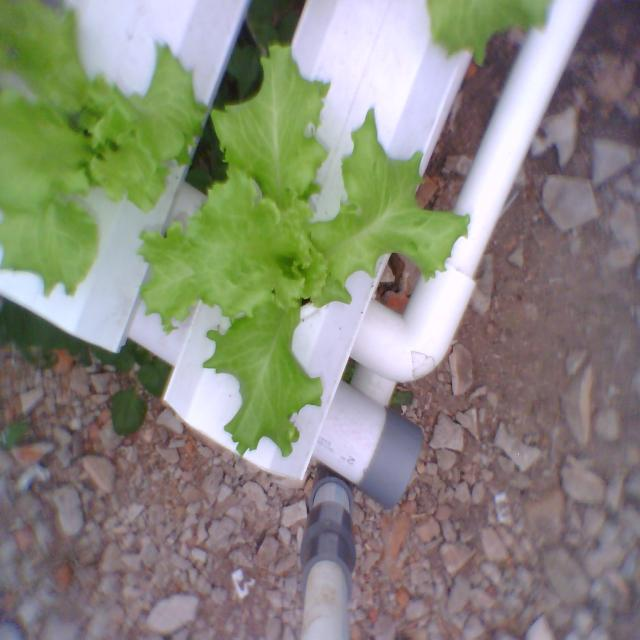FN: (132, 32, 476, 476), (0, 0, 221, 300)
